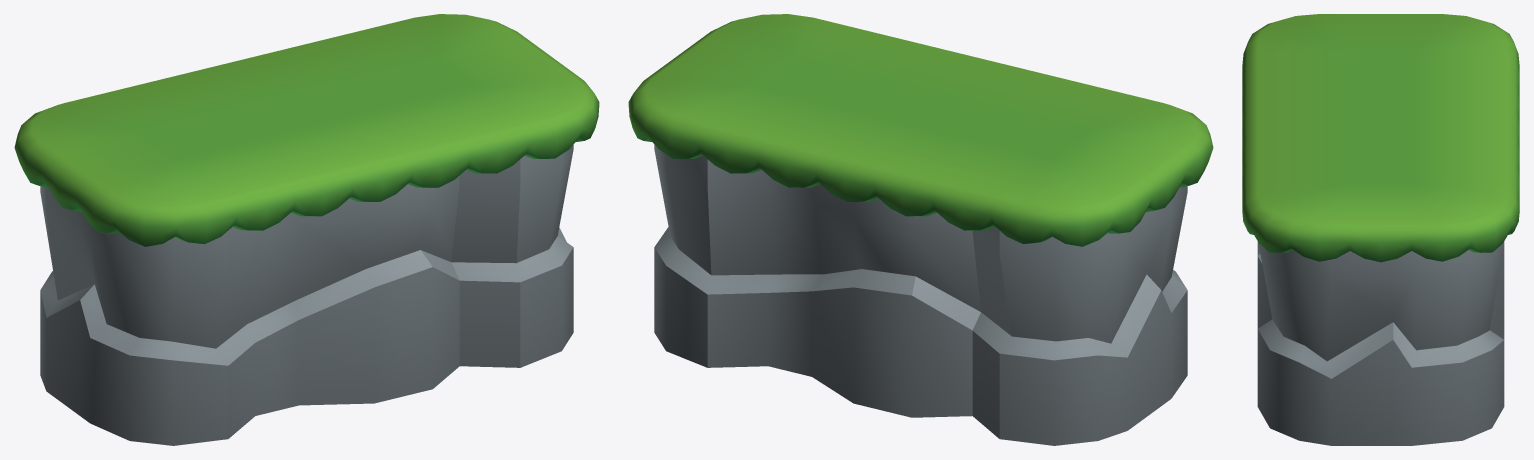
The model's file is Hill_8x4x4_Color1.gltf.
The picture shows the model from 3 angles, left to right: view 1: azimuth 30°, elevation 25°; view 2: azimuth 150°, elevation 25°; view 3: azimuth 270°, elevation 25°; orthographic projection. The views are drawn at different scales.
Visible parts, largest first — view 1: Hill_8x4x4_Color1; view 2: Hill_8x4x4_Color1; view 3: Hill_8x4x4_Color1.
Part boxes in pixels (left/top/right/bottom): Hill_8x4x4_Color1: left=14, top=14, right=599, bottom=445; Hill_8x4x4_Color1: left=628, top=14, right=1213, bottom=445; Hill_8x4x4_Color1: left=1242, top=14, right=1519, bottom=445.
Size of the model in its own units: 8.5 by 4 by 4.5.
Materials: 1 (1 with a texture image).
